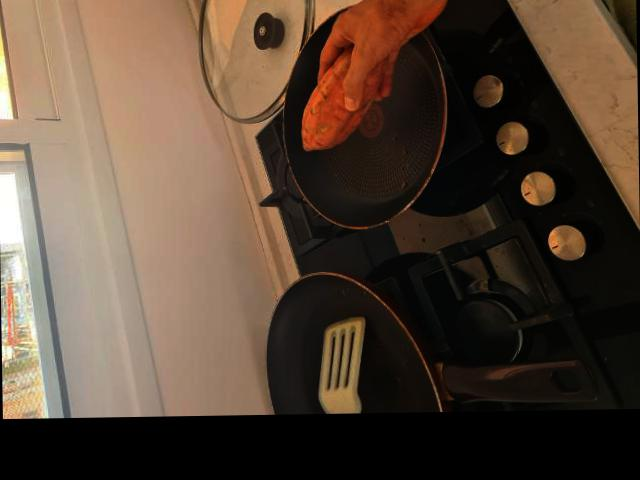sweet_potato: (299, 48, 394, 154)
